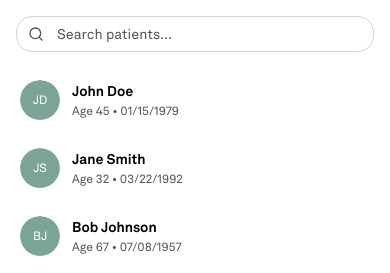
Test case: PatientRoster › Search Functionality › is case-insensitive
The width and height of the screenshot is (390, 273).
Type "JANE" into the field with placeholder "Search patients..." at (195, 34), box x1=16 y1=16 x2=374 y2=52
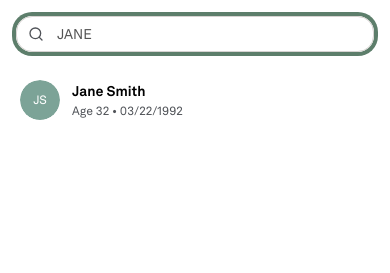
Now the text "Jane Smith" is shown, box x1=72 y1=81 x2=146 y2=101
